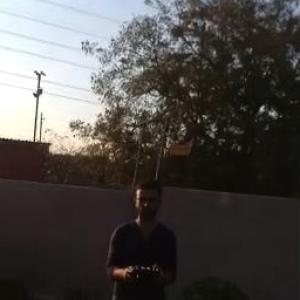follow: (101, 171, 180, 299)
